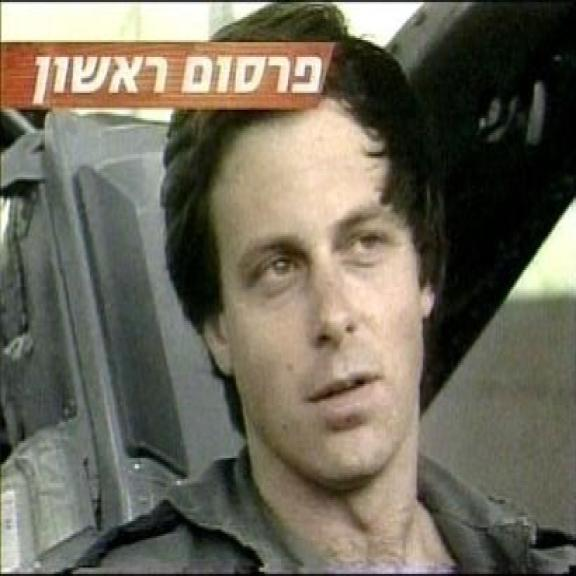face: (190, 46, 442, 494)
